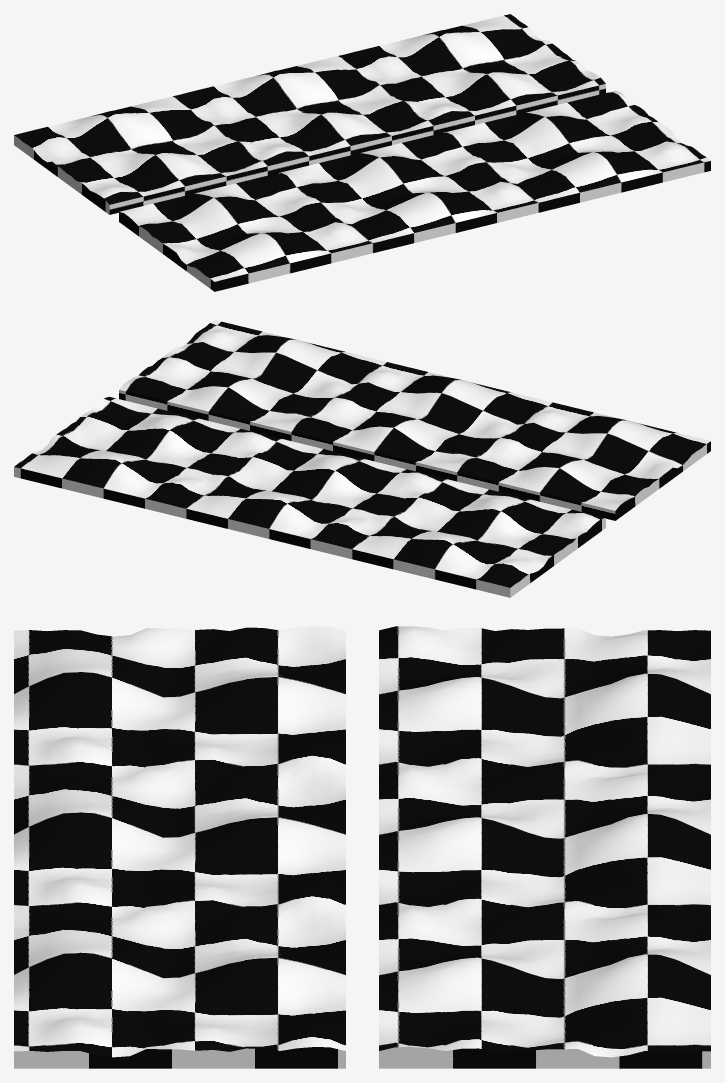
File: waki check.fbx
3 views of the same model, one above another, from view 1: azimuth 30°, elevation 25°; view 2: azimuth 150°, elevation 25°; view 3: azimuth 270°, elevation 25° (orthographic). The views are drawn at different scales.
Visible parts, largest first — view 1: pCube34; view 2: pCube34; view 3: pCube34.
Part boxes in pixels (x1,y1,x2,y2): pCube34: [14, 14, 710, 291]; pCube34: [14, 320, 710, 597]; pCube34: [14, 626, 710, 1068].
Bounding box in the file's own units: 720 × 33.62 × 504.
1 material, 1 textured.
